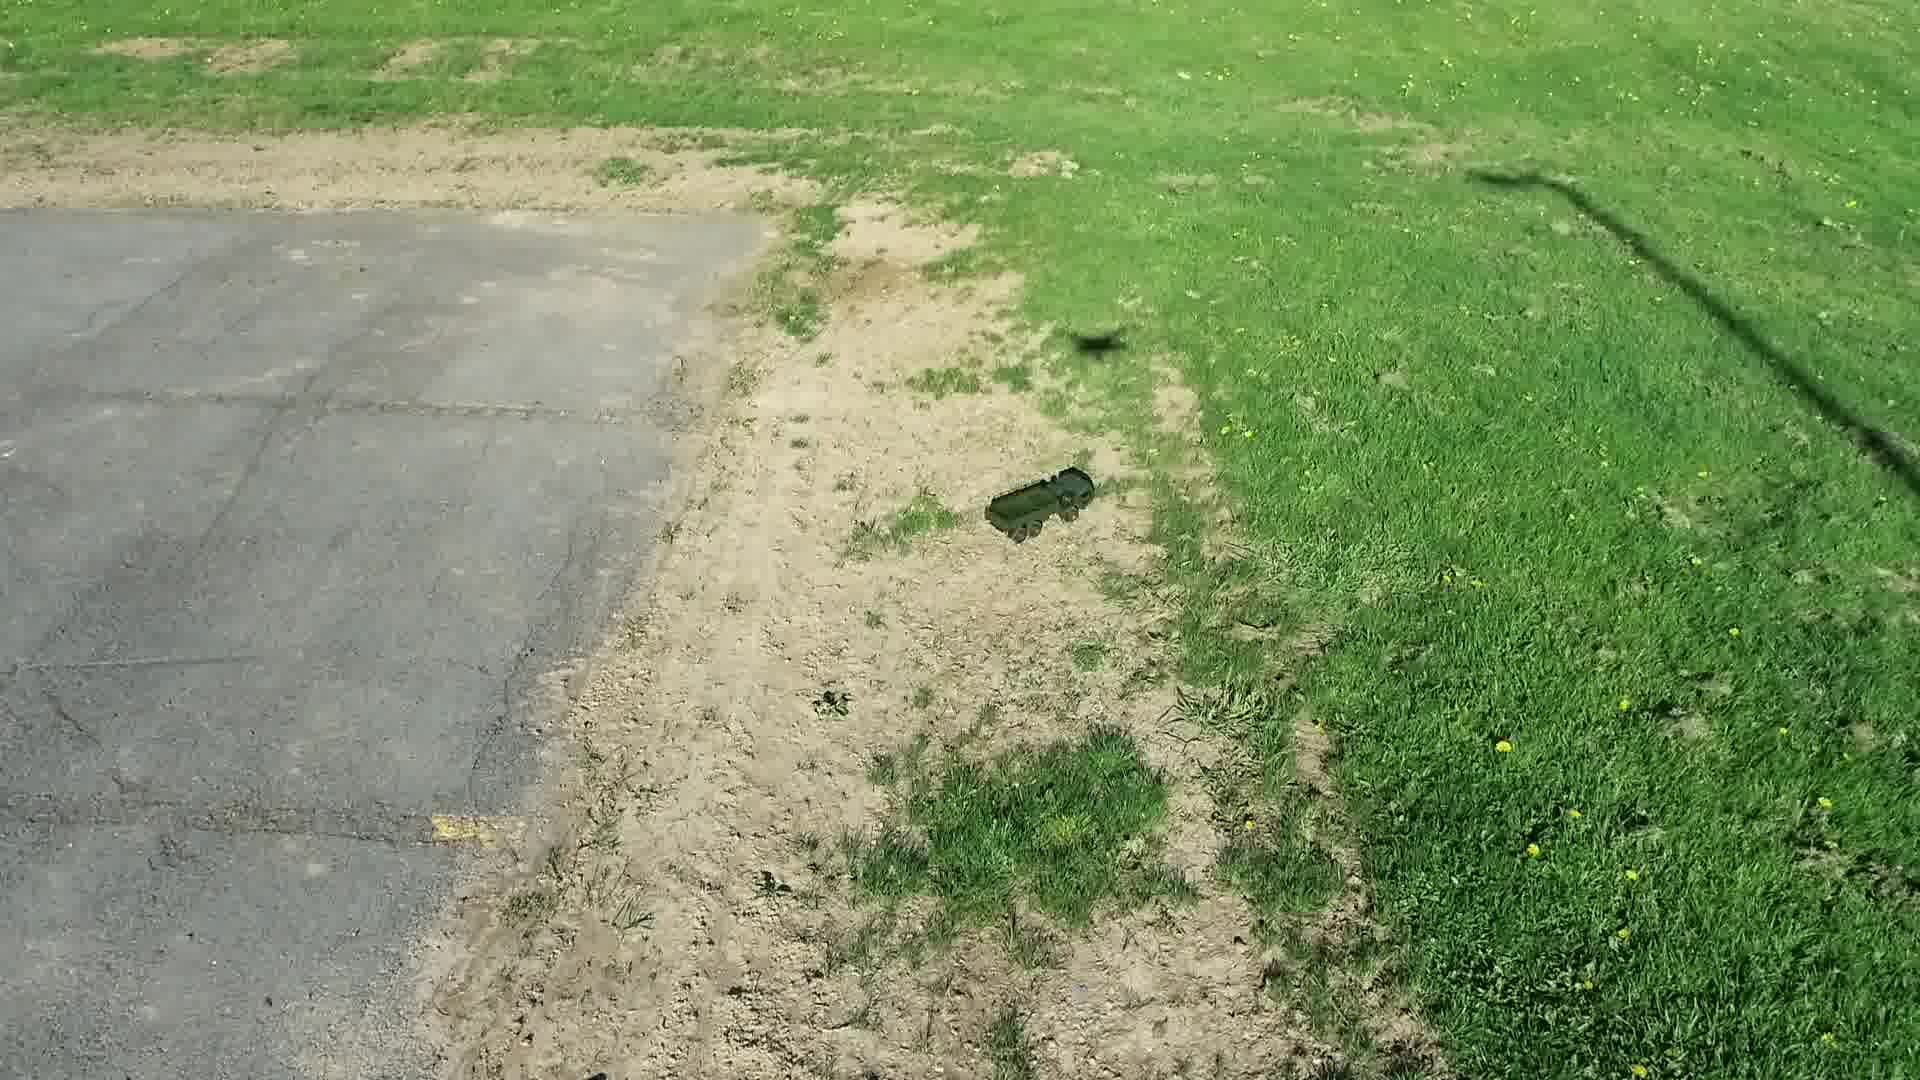transporter9: (981, 462, 1102, 542)
